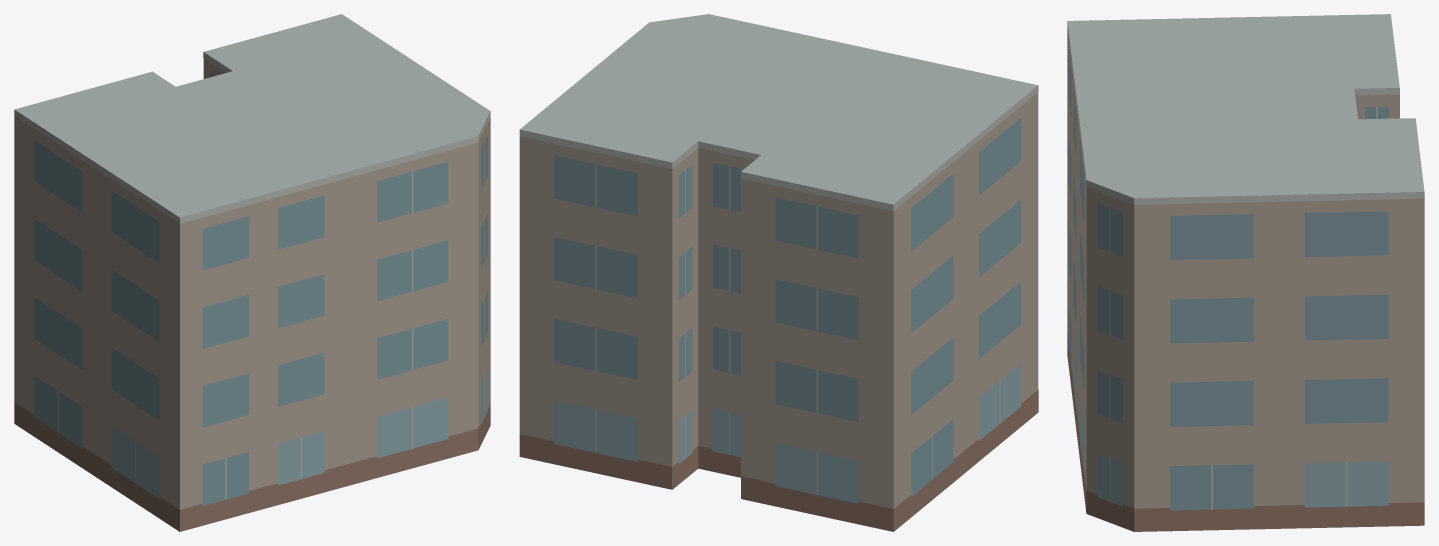
File: survey-upis-32738400.glb
3 renders of one model, left to right at view 1: azimuth 30°, elevation 25°; view 2: azimuth 150°, elevation 25°; view 3: azimuth 270°, elevation 25°, orthographic. The views are drawn at different scales.
Parts seen in each view (by area): view 1: survey-upis-32738400.tmp; view 2: survey-upis-32738400.tmp; view 3: survey-upis-32738400.tmp.
Boxes of the visible parts, x1,y1,x2,y2 form: survey-upis-32738400.tmp: (14, 14, 490, 531); survey-upis-32738400.tmp: (519, 14, 1038, 531); survey-upis-32738400.tmp: (1067, 14, 1424, 531).
Bounding box in the file's own units: 14.45 × 12.2 × 11.85.
